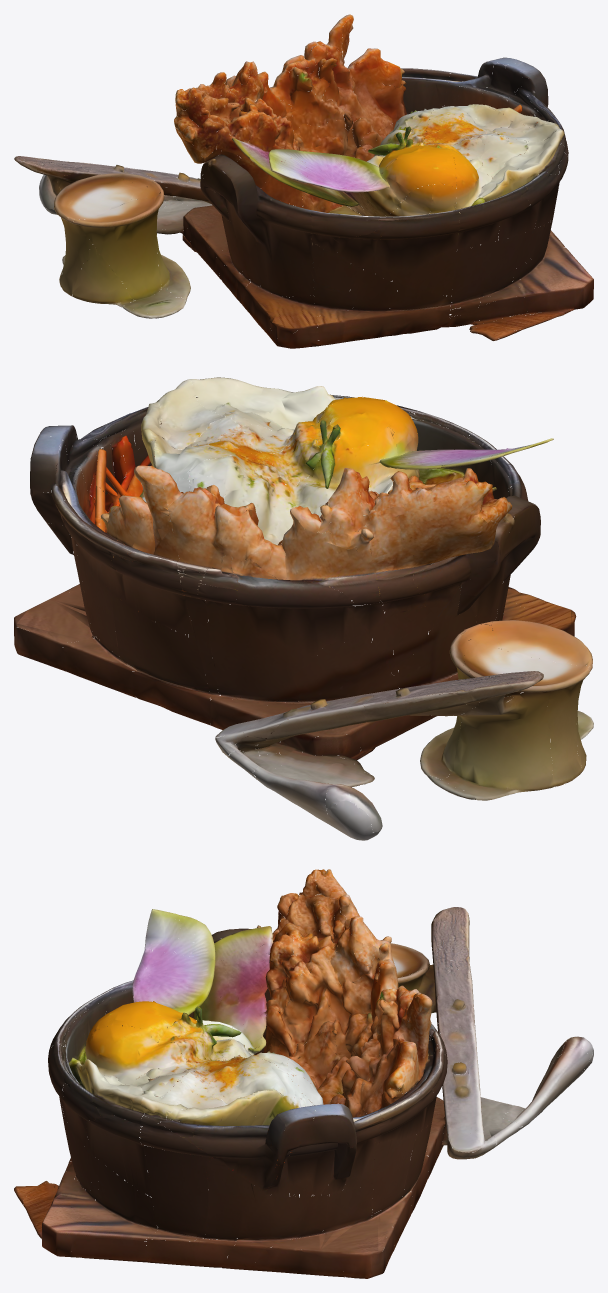
File: thai-chicken-bowl.glb
3 views of the same model, one above another, from view 1: azimuth 30°, elevation 25°; view 2: azimuth 150°, elevation 25°; view 3: azimuth 270°, elevation 25° (orthographic). The views are drawn at different scales.
Visible parts, largest first — view 1: tripo_node_10996097-26b3-499c-be9c-155272aeebd6; view 2: tripo_node_10996097-26b3-499c-be9c-155272aeebd6; view 3: tripo_node_10996097-26b3-499c-be9c-155272aeebd6.
Part boxes in pixels (left/top/right/bottom): tripo_node_10996097-26b3-499c-be9c-155272aeebd6: left=14, top=14, right=593, bottom=348; tripo_node_10996097-26b3-499c-be9c-155272aeebd6: left=14, top=377, right=593, bottom=840; tripo_node_10996097-26b3-499c-be9c-155272aeebd6: left=14, top=869, right=593, bottom=1278.
Size of the model in its own units: 0.9811 by 0.4127 by 0.9493.
Materials: 1 (1 with a texture image).
